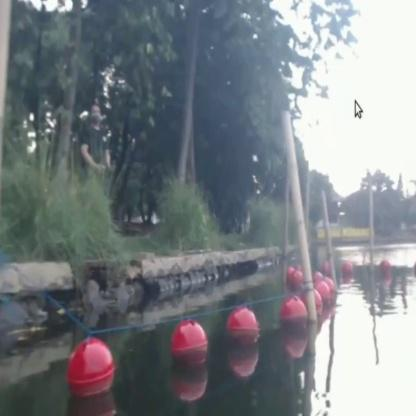red_buoy: (67, 339, 116, 394), (226, 309, 257, 355), (281, 298, 305, 340), (171, 324, 195, 366), (318, 272, 334, 302), (314, 287, 322, 321), (290, 266, 300, 291), (342, 258, 352, 282)
